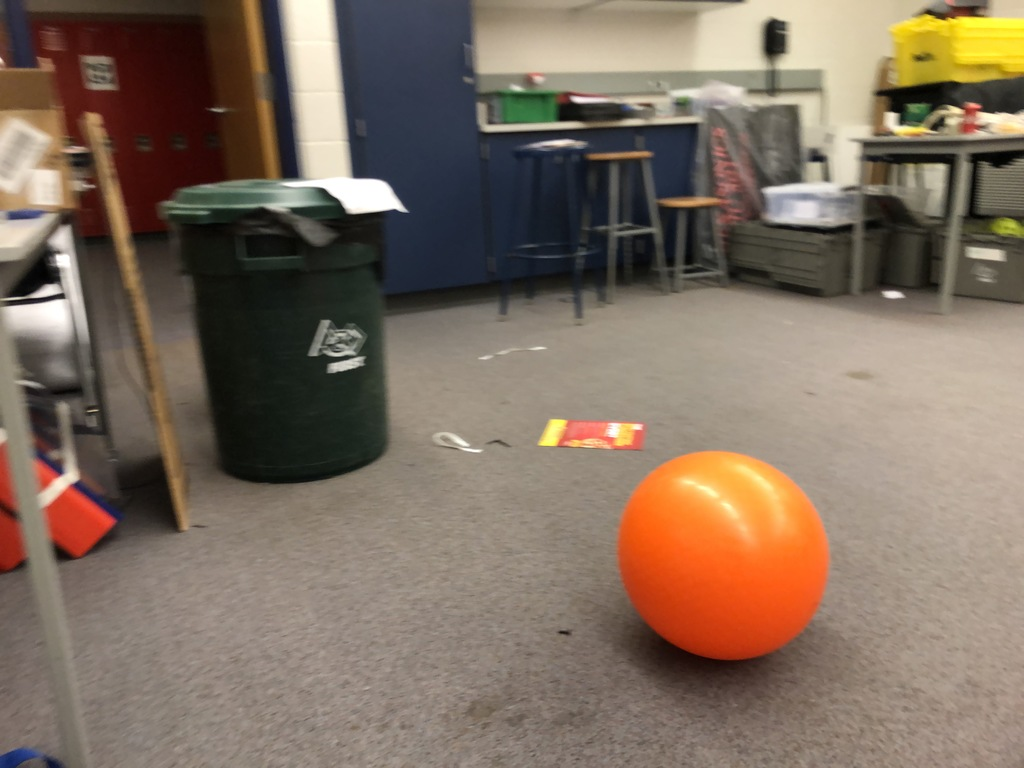cargo: (615, 440, 835, 677)
